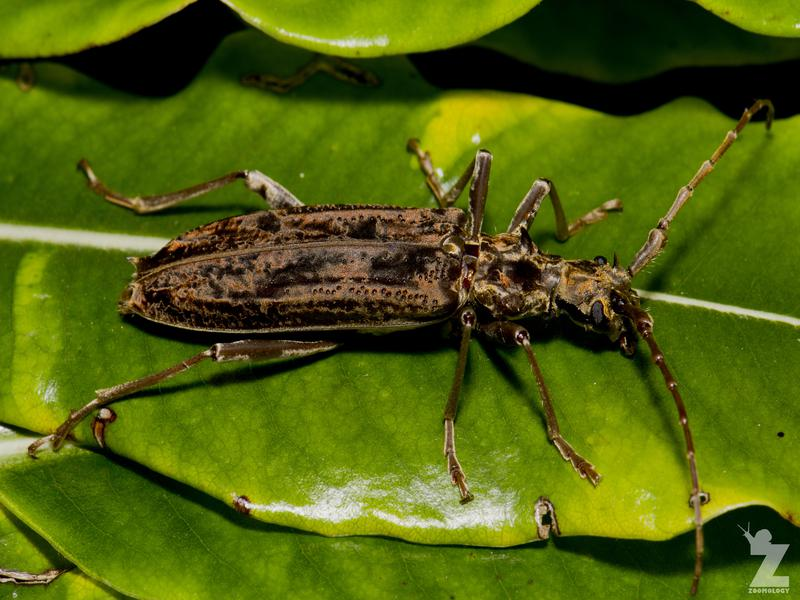Spiny_beetle: (98, 173, 746, 452)
